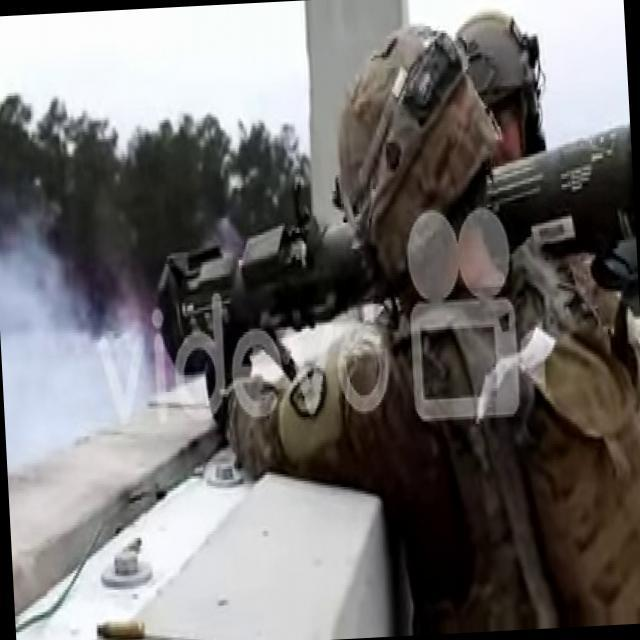rocket: (148, 127, 640, 354)
